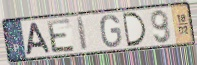9: (149, 9, 172, 45)
A: (25, 21, 53, 56)
D: (121, 11, 148, 48)
E: (45, 17, 77, 54)
G: (99, 14, 123, 49)
I: (75, 15, 89, 53)
